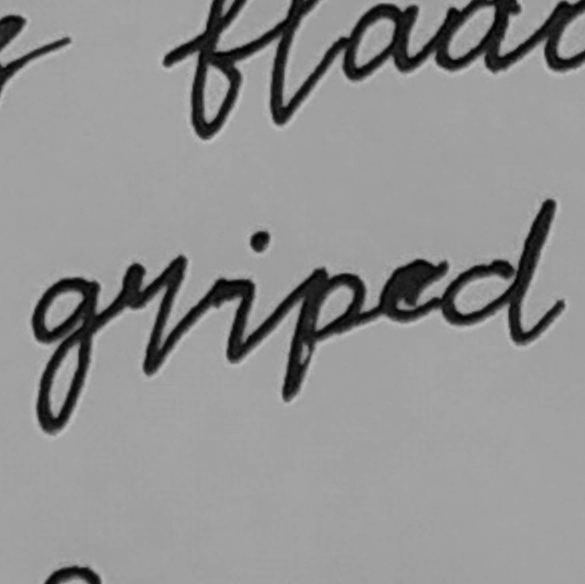d: (437, 193, 569, 349)
e: (376, 254, 451, 325)
g: (23, 271, 106, 437)
i: (199, 222, 276, 367)
p: (277, 261, 374, 412)
r: (110, 246, 192, 382)
